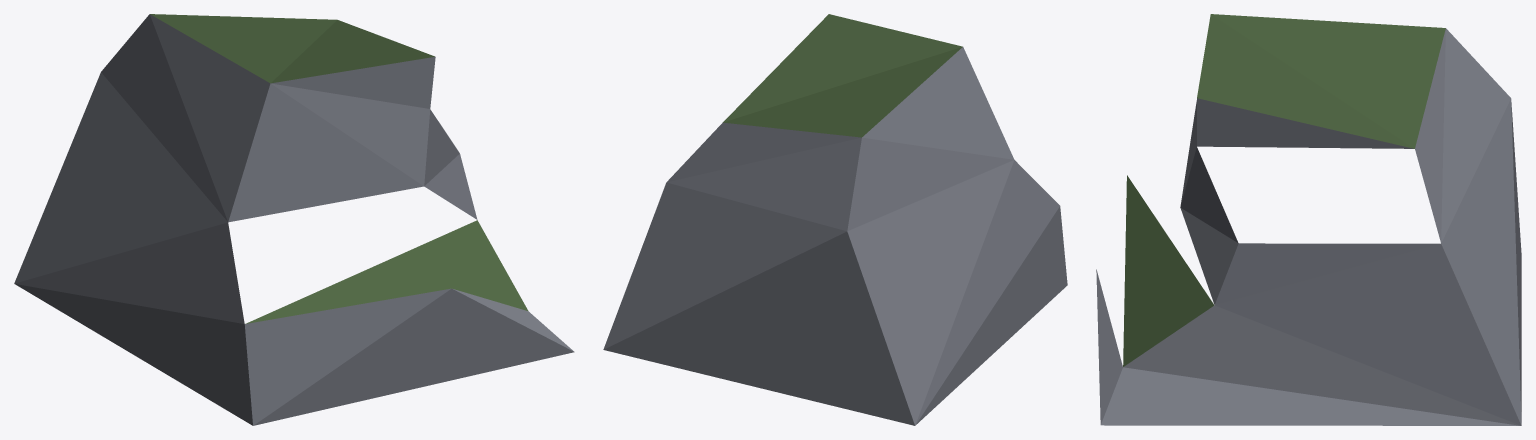
Rendered from Rock_Moss_3_lod.glb.
The picture shows the model from 3 angles, left to right: view 1: azimuth 30°, elevation 25°; view 2: azimuth 150°, elevation 25°; view 3: azimuth 270°, elevation 25°; orthographic projection. The views are drawn at different scales.
Visible parts, largest first — view 1: Rock_Moss_3; view 2: Rock_Moss_3; view 3: Rock_Moss_3.
Boxes of the visible parts, x1,y1,x2,y2 form: Rock_Moss_3: (14,14,574,425); Rock_Moss_3: (603,14,1067,425); Rock_Moss_3: (1096,14,1521,425).
Bounding box in the file's own units: 0.708 × 0.5567 × 0.7407.
